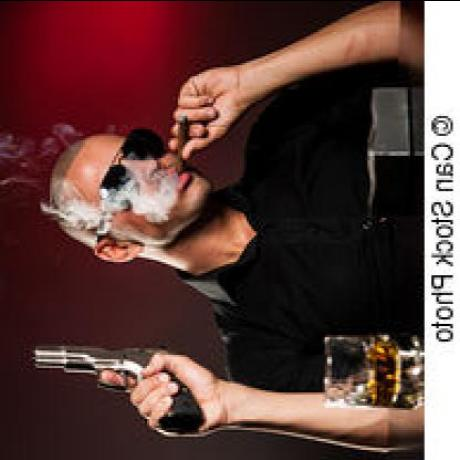1: (42, 13, 426, 446)
weapon: (32, 330, 208, 437)
